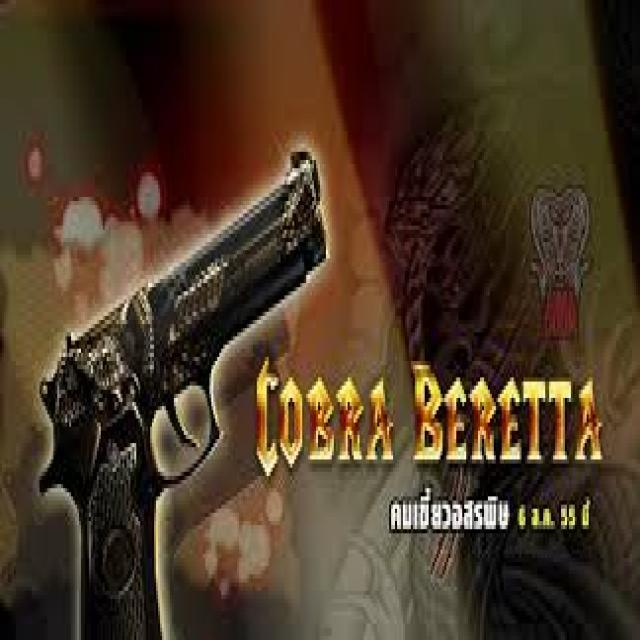semi automatic: (29, 127, 334, 640)
